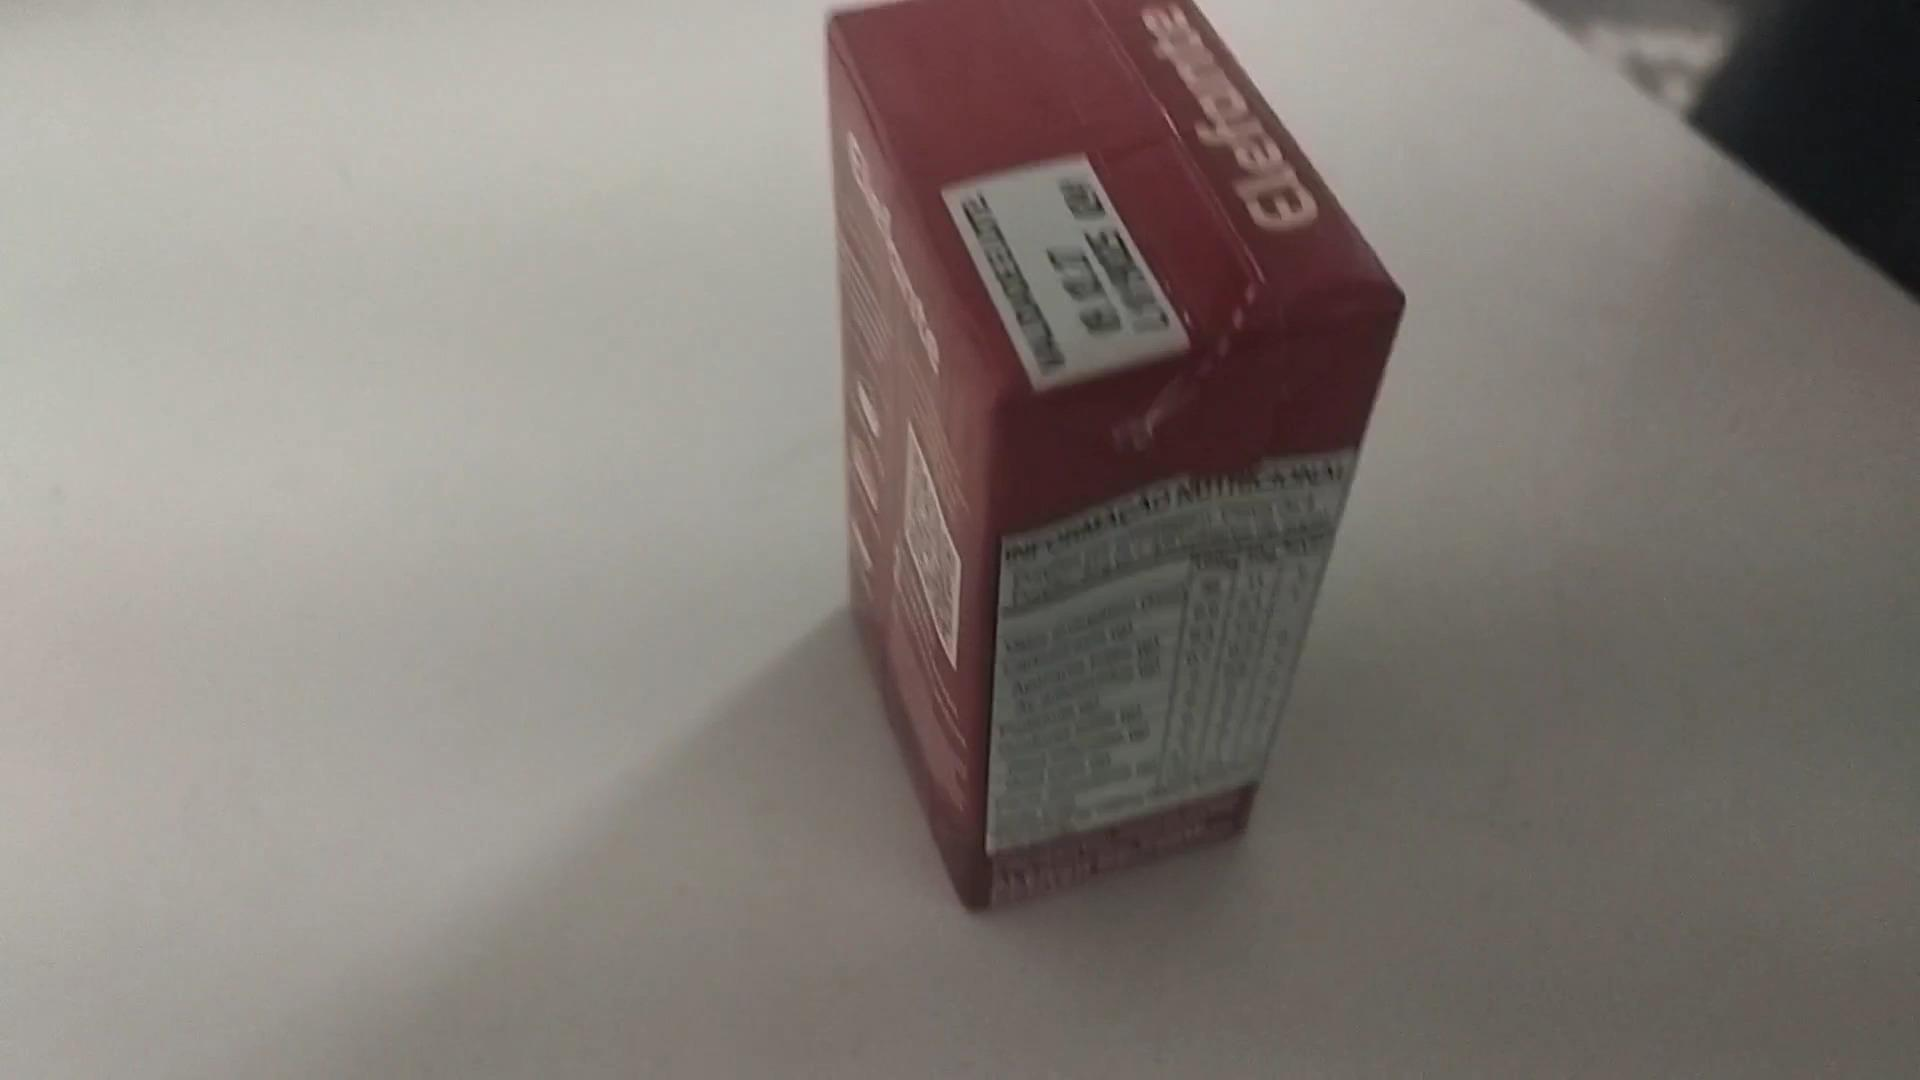tomate: (816, 0, 1418, 915)
